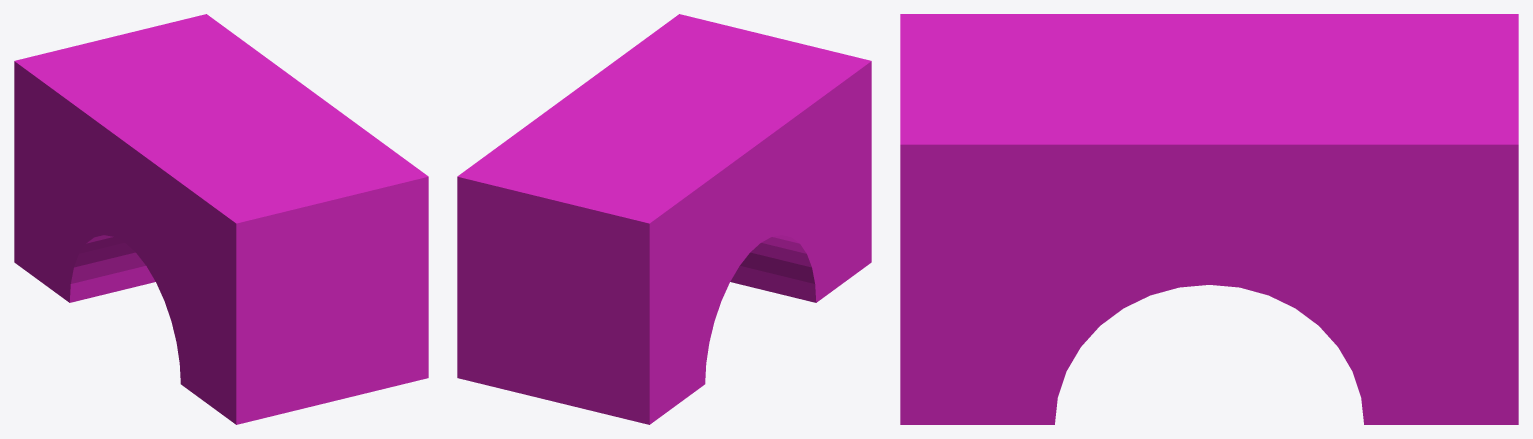
File: map_objects_arch.fbx
3 renders of one model, left to right at view 1: azimuth 30°, elevation 25°; view 2: azimuth 150°, elevation 25°; view 3: azimuth 270°, elevation 25°, orthographic. The views are drawn at different scales.
Parts seen in each view (by area): view 1: 円柱; view 2: 円柱; view 3: 円柱.
Boxes of the visible parts, box(x1,y1,x2,y2) form: 円柱: box(14, 14, 428, 424); 円柱: box(457, 14, 871, 424); 円柱: box(900, 14, 1518, 424).
Bounding box in the file's own units: 200 × 200 × 400.
